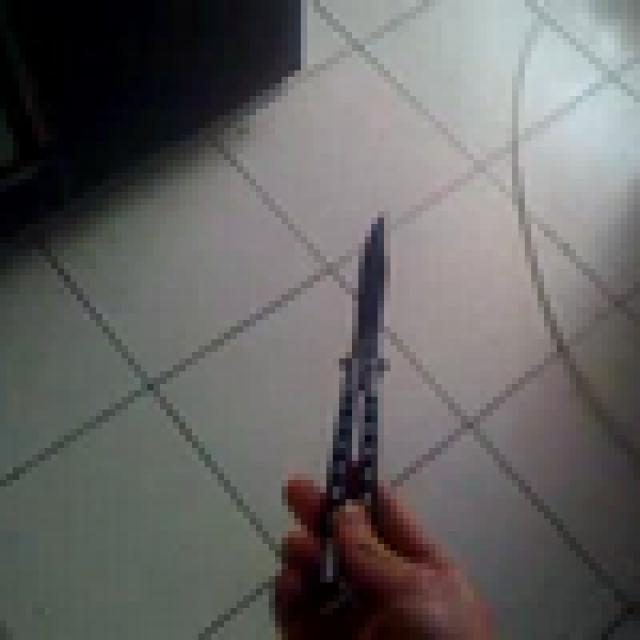knife: (288, 179, 442, 602)
